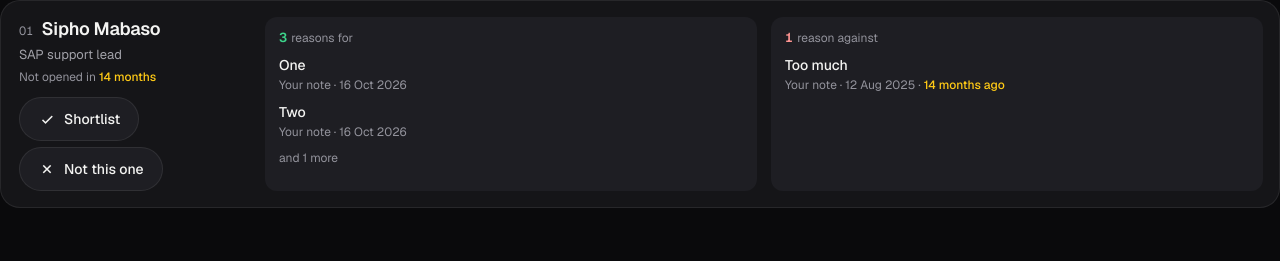
Test case: MatchCard in the hierarchy direction › shows two reasons, then the rest behind 'and N more'
Expected: the text "Three" is not shown
Click the button "and 1 more". click: click(309, 158)
box: [279,150,338,166]
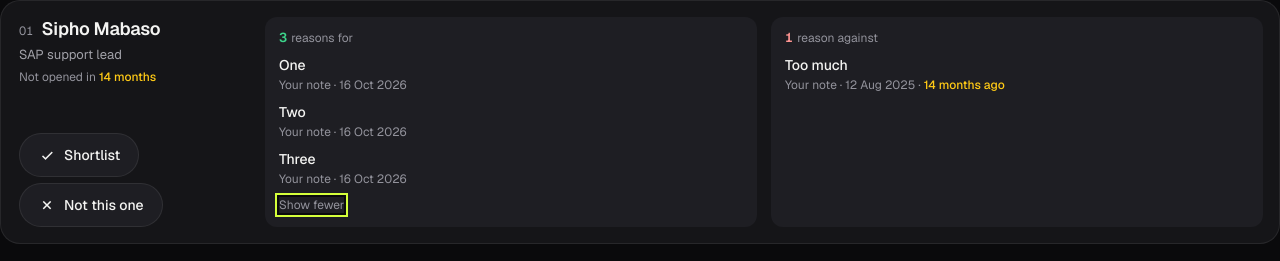
Now the text "Three" is shown, box [279,150,316,168]
Now the button "Show fewer" is expanded, box [279,197,344,213]
